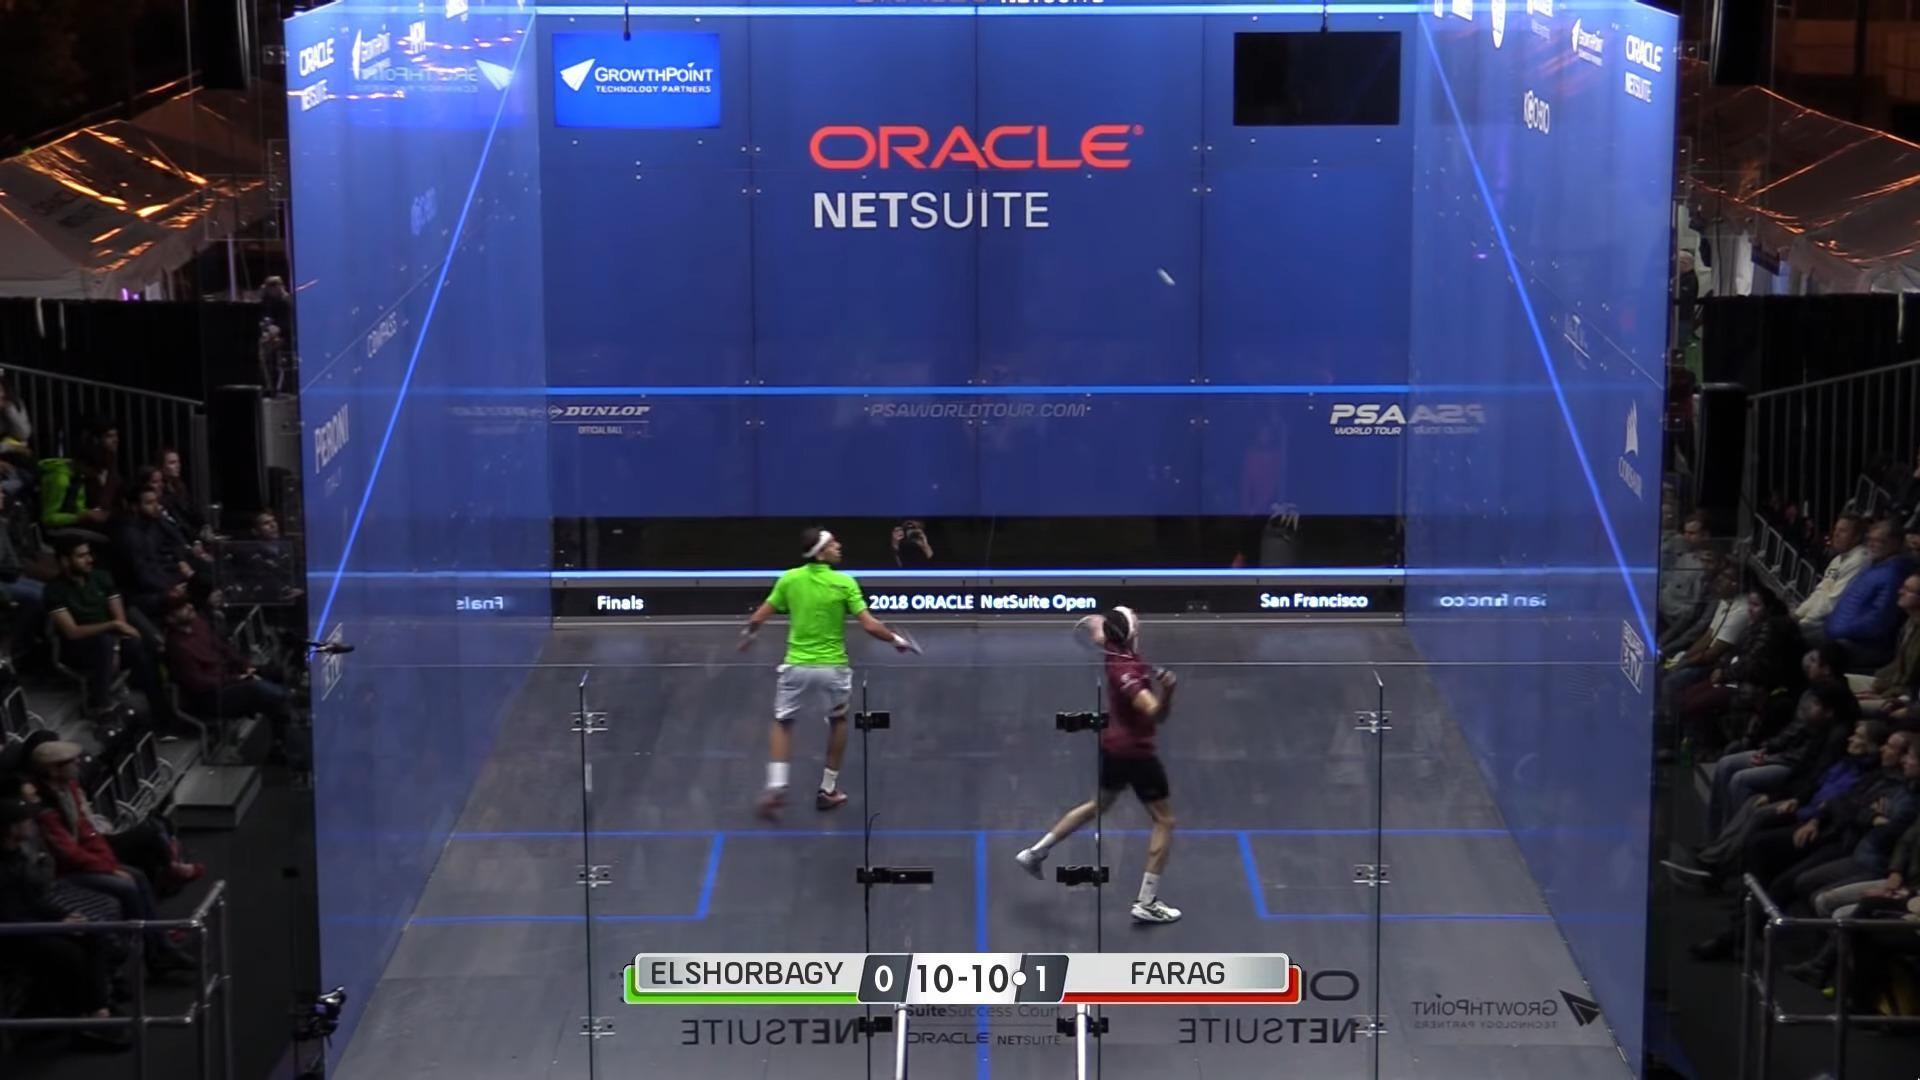Squash-Ball: (1150, 265, 1182, 291)
